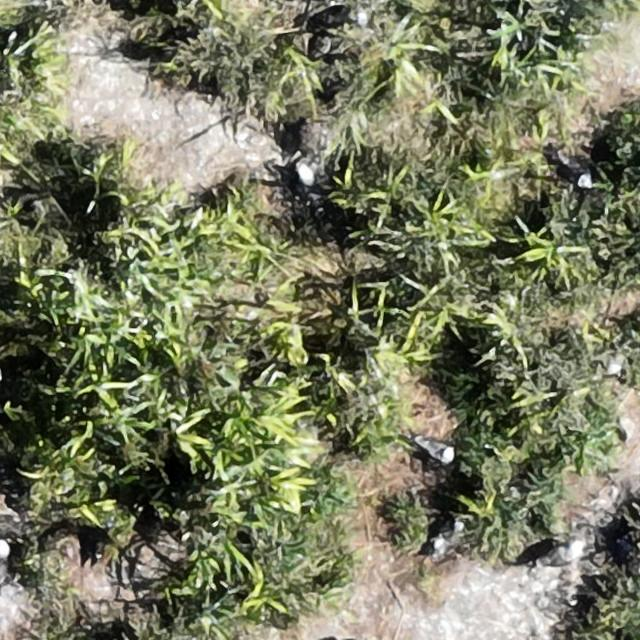umineko: (534, 540, 586, 570), (556, 160, 592, 188), (416, 438, 454, 461), (294, 154, 321, 185)
